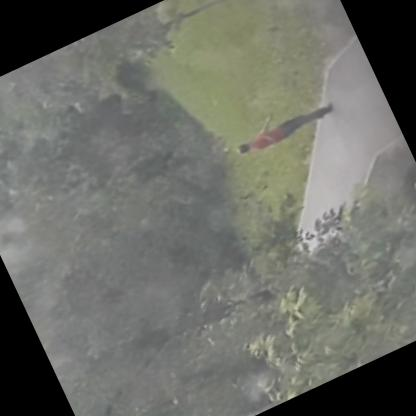Human Body: (221, 82, 346, 170)
